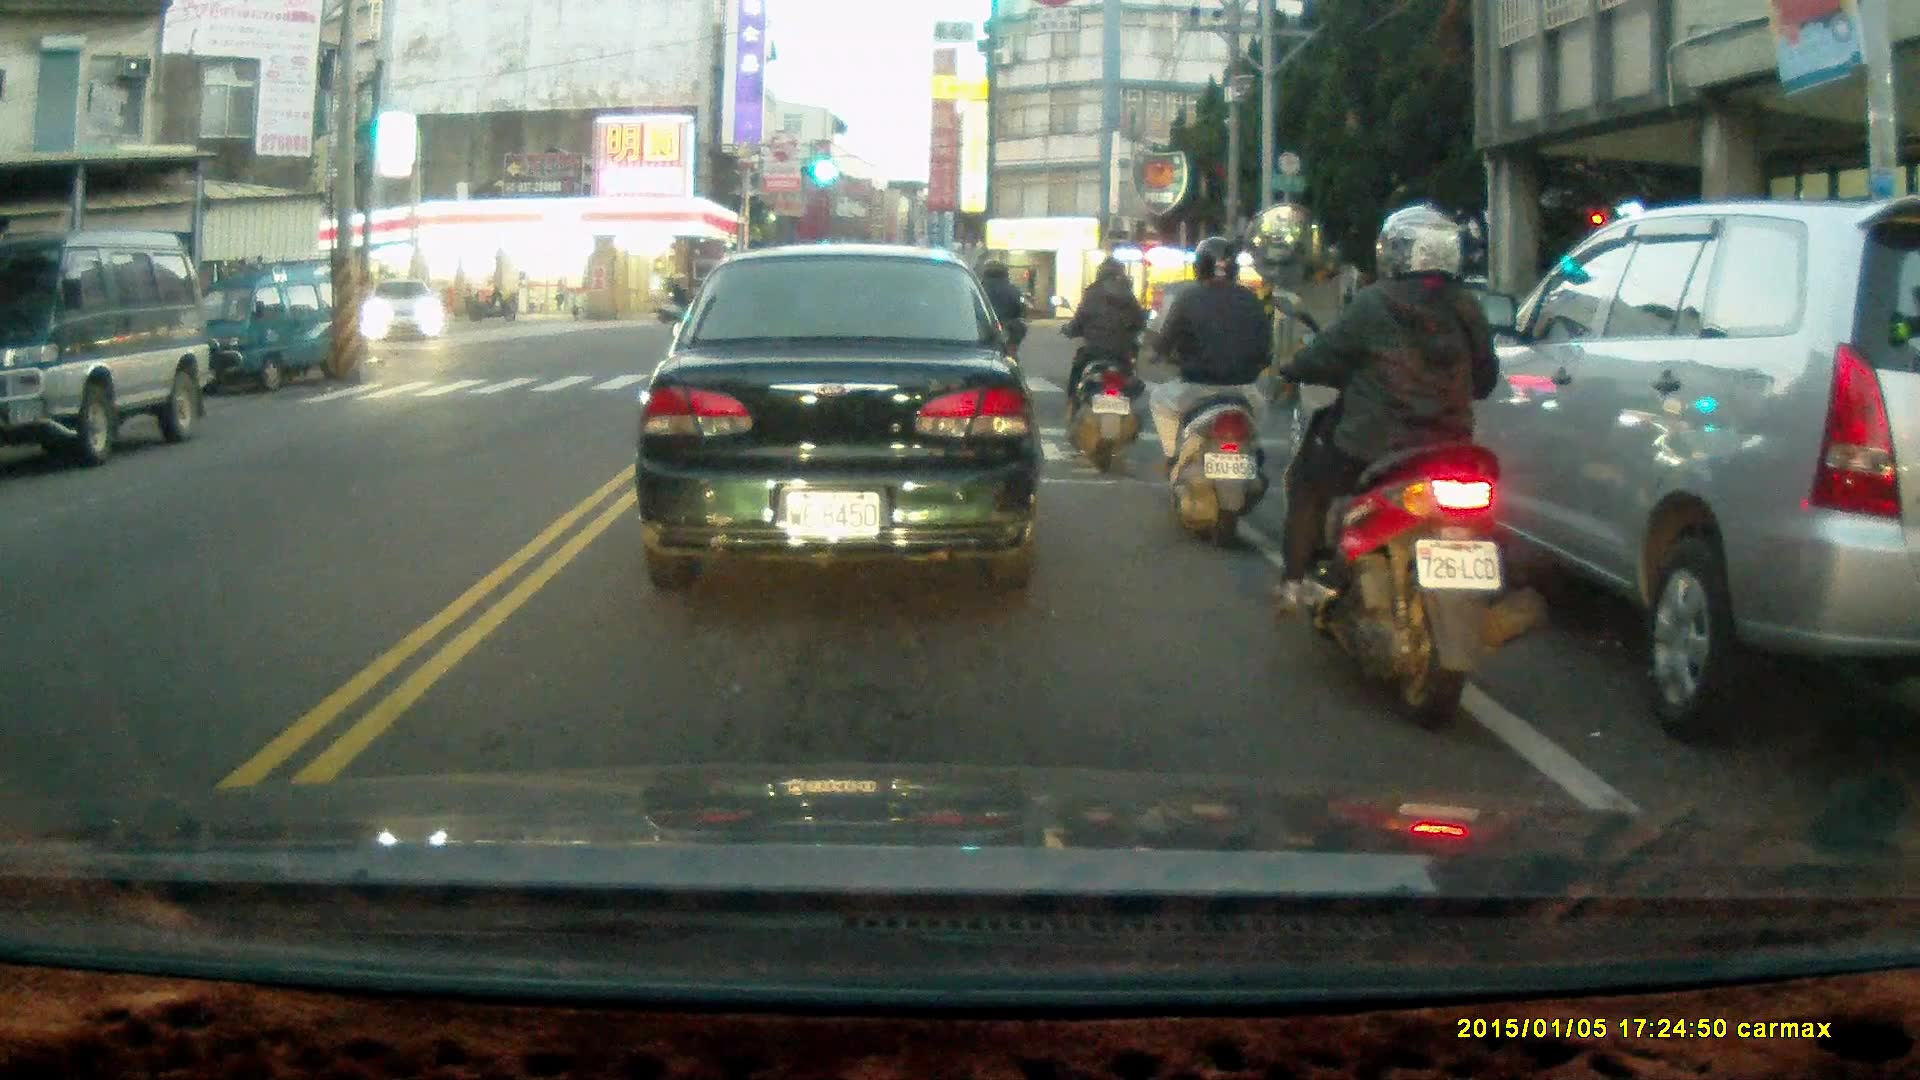rider: (1269, 204, 1531, 728), (1120, 232, 1273, 540), (1049, 251, 1147, 466), (967, 261, 1026, 390), (654, 278, 703, 323)
vehicle: (1405, 195, 1920, 749), (635, 241, 1043, 595), (1, 234, 212, 458), (179, 262, 360, 399), (368, 278, 448, 344)
